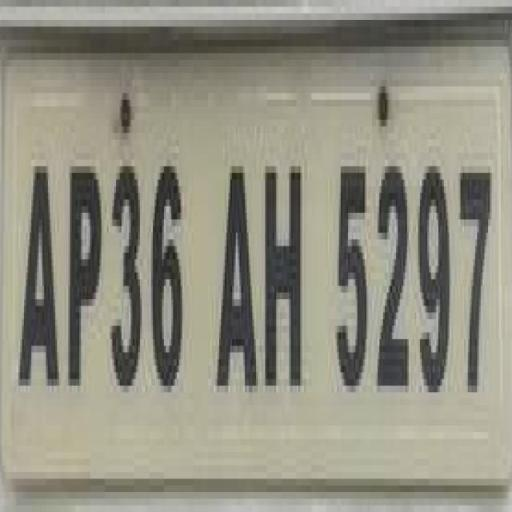number plate: (18, 0, 512, 472)
